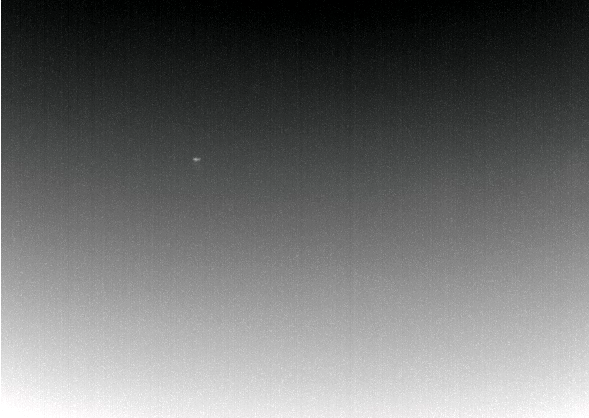dim target: (192, 157, 201, 162)
